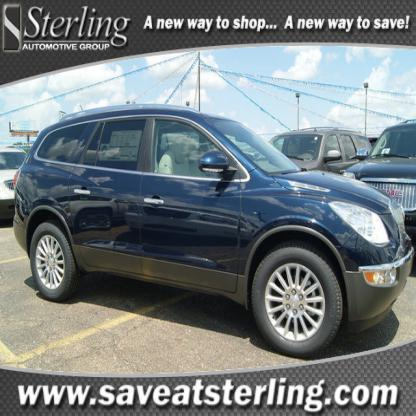Vehicle: (11, 104, 414, 358)
